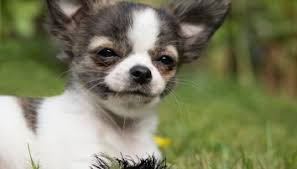chihuahua: (1, 1, 233, 169)
